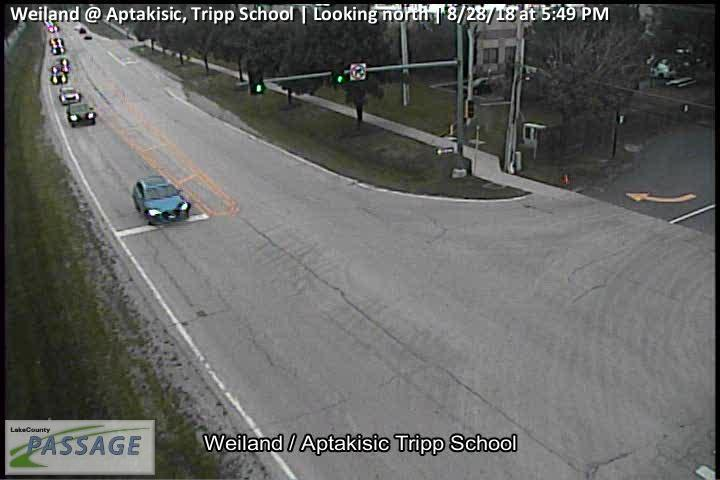SUV: (131, 174, 191, 226), (66, 102, 96, 129)
Sedan: (59, 86, 81, 103), (50, 74, 69, 84), (52, 61, 69, 72), (51, 45, 65, 54), (51, 37, 63, 44)
